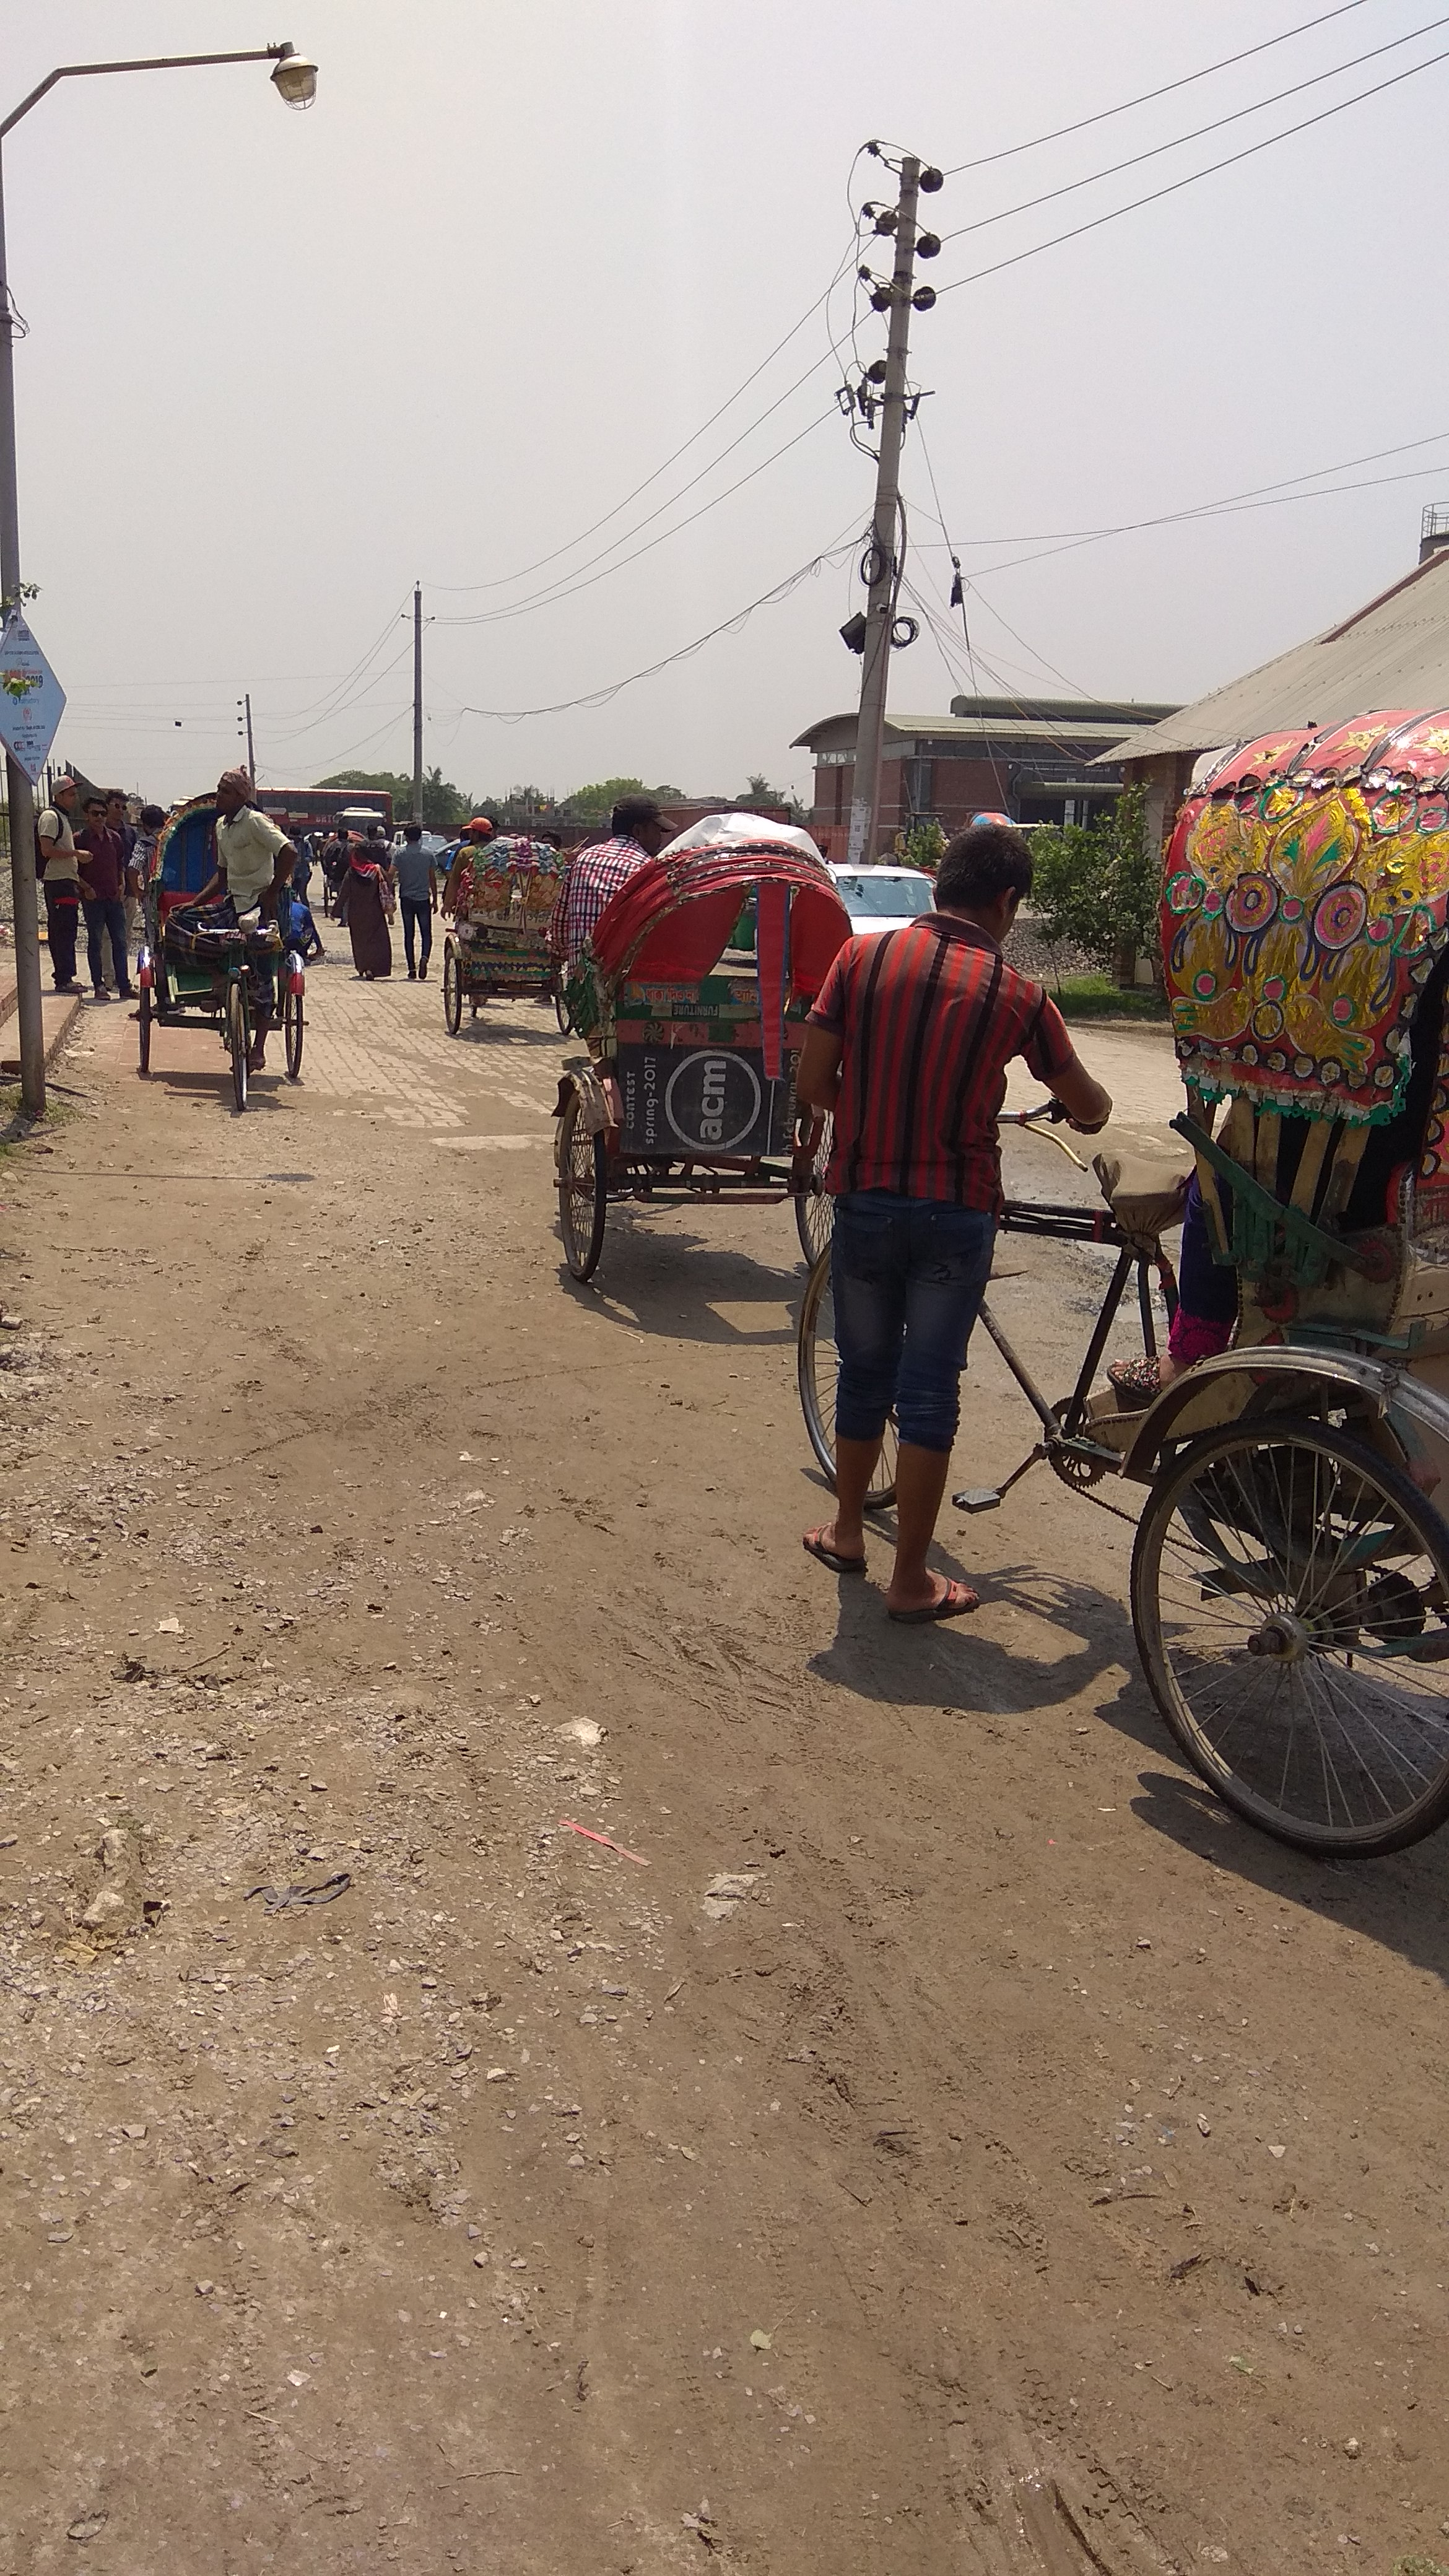Rickshaw: (895, 722, 1444, 1851), (536, 777, 847, 1274), (124, 761, 338, 1095), (435, 800, 591, 1030)
